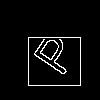P: (24, 24, 81, 78)
